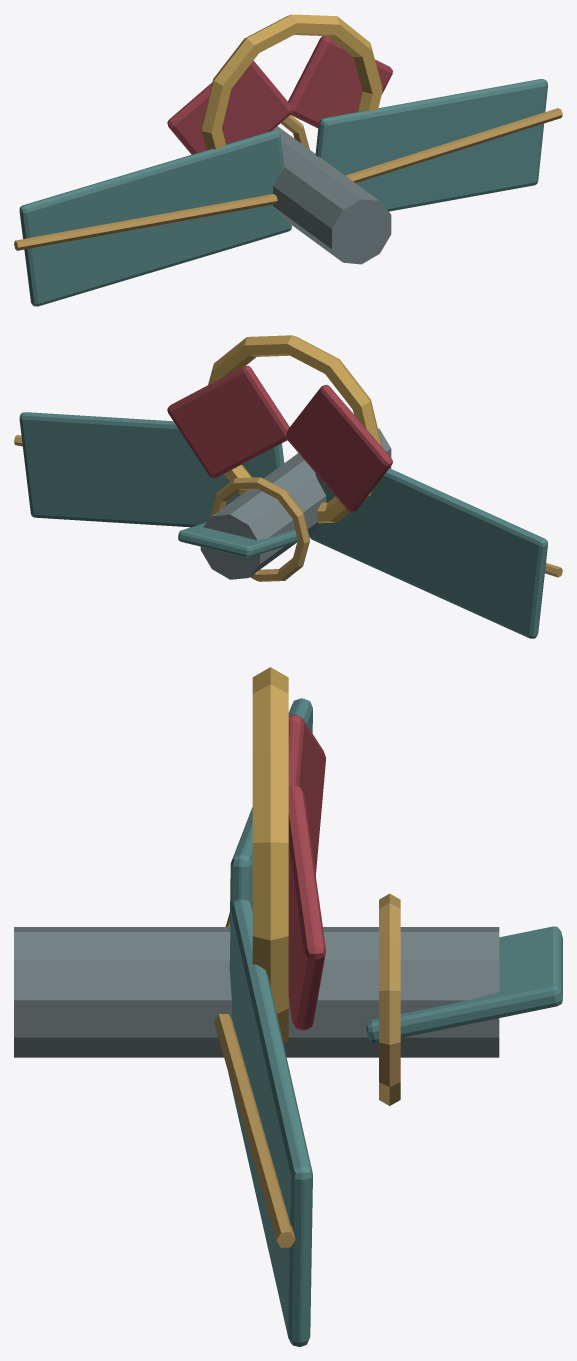
Rendered from unit-kite-swarm.glb.
The picture shows the model from 3 angles, top to bottom: view 1: azimuth 30°, elevation 25°; view 2: azimuth 150°, elevation 25°; view 3: azimuth 270°, elevation 25°; orthographic projection. The views are drawn at different scales.
Parts seen in each view (by area): view 1: left articulated wing, right articulated wing, bird body, swarm command crown, signal vane, signal vane.001, wing spar, wing spar.001, rotor cage; view 2: left articulated wing, right articulated wing, signal vane.001, signal vane, bird body, swarm command crown, rotor cage, split tail; view 3: bird body, right articulated wing, swarm command crown, split tail, signal vane.001, rotor cage, wing spar.001, signal vane, left articulated wing.
Part boxes in pixels (x1,y1,x2,y2): left articulated wing: [19, 130, 291, 306]; right articulated wing: [315, 79, 547, 211]; bird body: [272, 126, 391, 264]; swarm command crown: [201, 14, 382, 149]; signal vane: [167, 60, 291, 154]; signal vane.001: [288, 36, 392, 128]; wing spar: [14, 194, 277, 250]; wing spar.001: [345, 108, 562, 182]; rotor cage: [280, 115, 309, 149]; left articulated wing: [309, 468, 547, 638]; right articulated wing: [19, 412, 284, 527]; signal vane.001: [167, 365, 289, 478]; signal vane: [286, 384, 392, 512]; bird body: [200, 428, 391, 579]; swarm command crown: [208, 335, 382, 523]; rotor cage: [210, 477, 309, 581]; split tail: [178, 522, 297, 557]; bird body: [14, 927, 499, 1057]; right articulated wing: [228, 899, 312, 1346]; swarm command crown: [252, 667, 288, 1043]; split tail: [366, 926, 562, 1042]; signal vane.001: [288, 785, 325, 1030]; rotor cage: [379, 893, 400, 1105]; wing spar.001: [214, 1014, 295, 1247]; signal vane: [288, 714, 326, 875]; left articulated wing: [229, 698, 312, 926].
Size of the model in its own units: 4.19 by 1.74 by 1.98.
